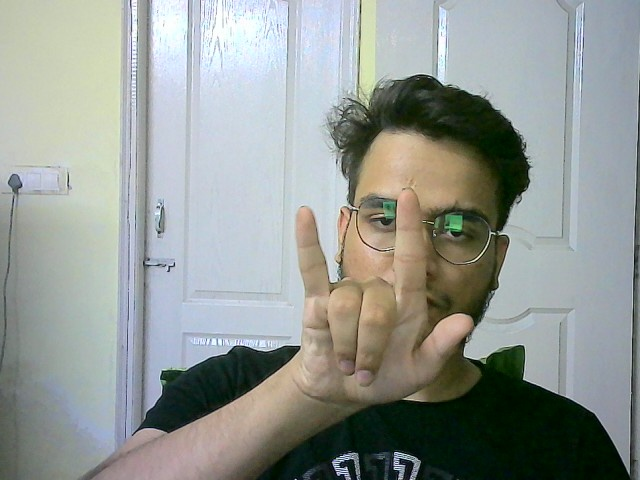I Love You: (294, 187, 480, 404)
